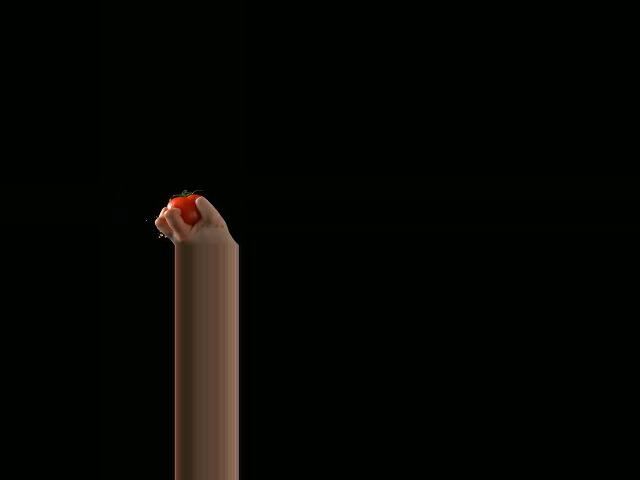tomato: (167, 194, 202, 225)
